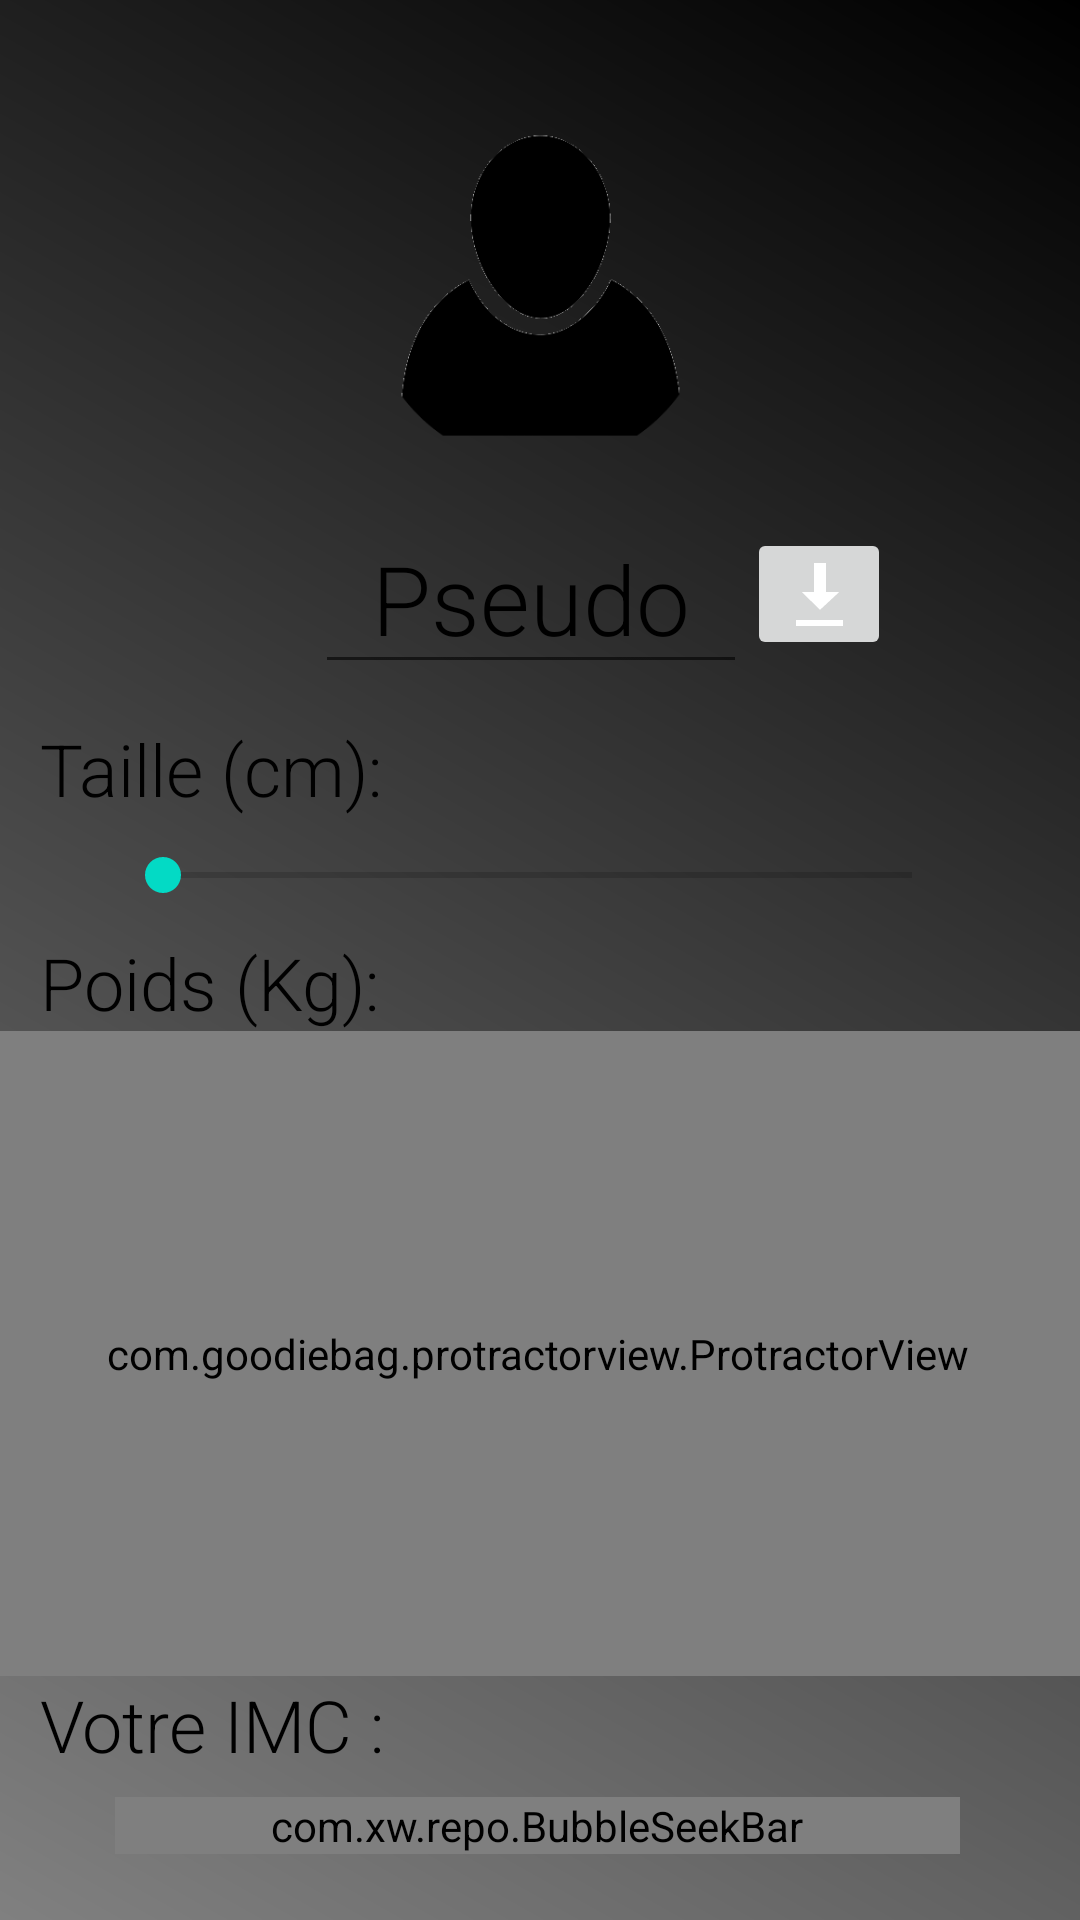

Icons on this 1080×1920 Android screen, each with its box as (x1, y1, x2, y2):
download: (759, 546, 879, 642)
user: (360, 135, 720, 477)
